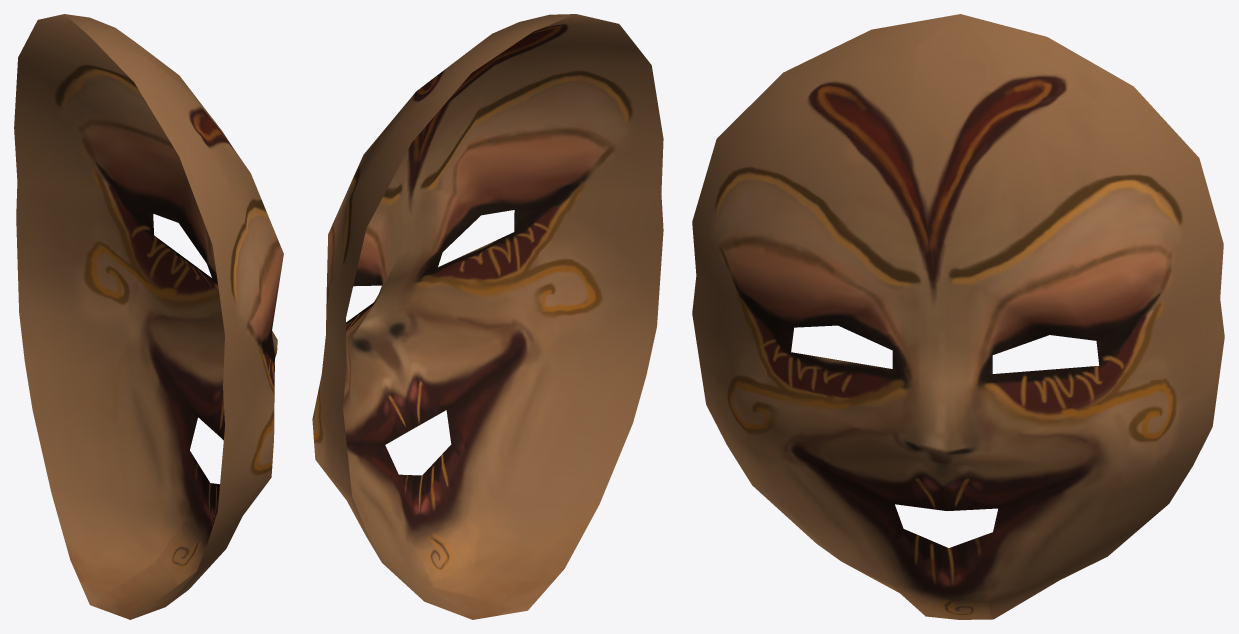
The model's file is Mask_Smiling.fbx.
3 views of the same model, side by side, from view 1: azimuth 30°, elevation 25°; view 2: azimuth 150°, elevation 25°; view 3: azimuth 270°, elevation 25° (orthographic).
Visible parts, largest first — view 1: Mask1; view 2: Mask1; view 3: Mask1.
Boxes of the visible parts, left/top/right/bottom form: Mask1: left=14, top=14, right=283, bottom=619; Mask1: left=312, top=14, right=663, bottom=619; Mask1: left=692, top=14, right=1224, bottom=619.
Size of the model in its own units: 2.41 by 7.28 by 6.07.
